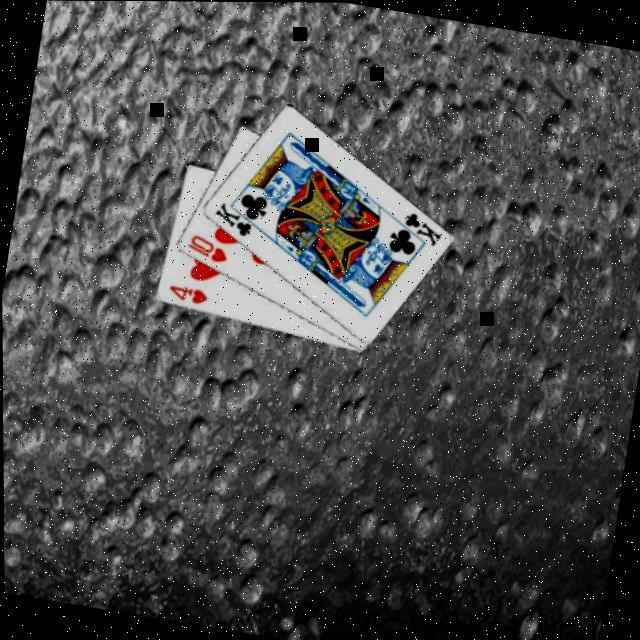10H: (181, 229, 231, 266)
4H: (163, 279, 210, 308)
KC: (207, 196, 264, 240), (388, 205, 445, 249)
